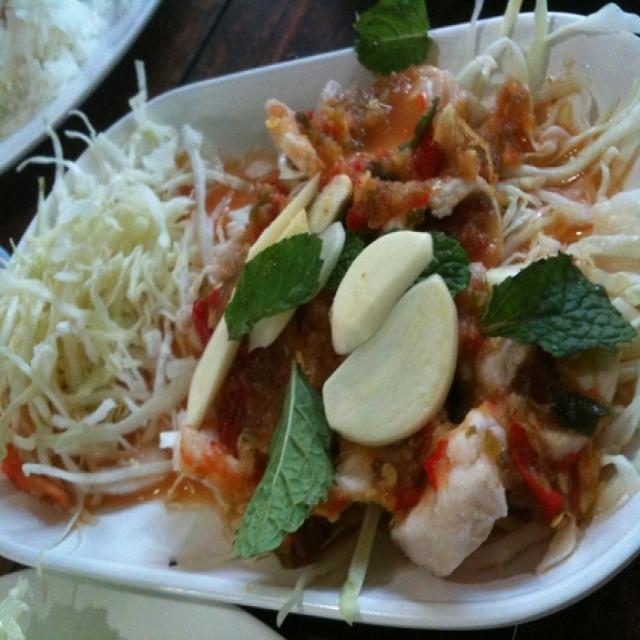猪肉菜式: (13, 13, 628, 618)
